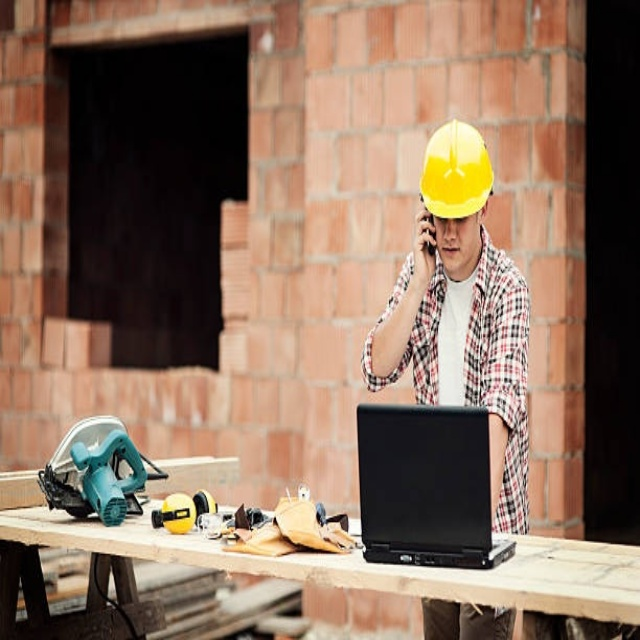Sin_guantes: (410, 216, 435, 275)
Sin_mascara: (438, 240, 465, 270)
